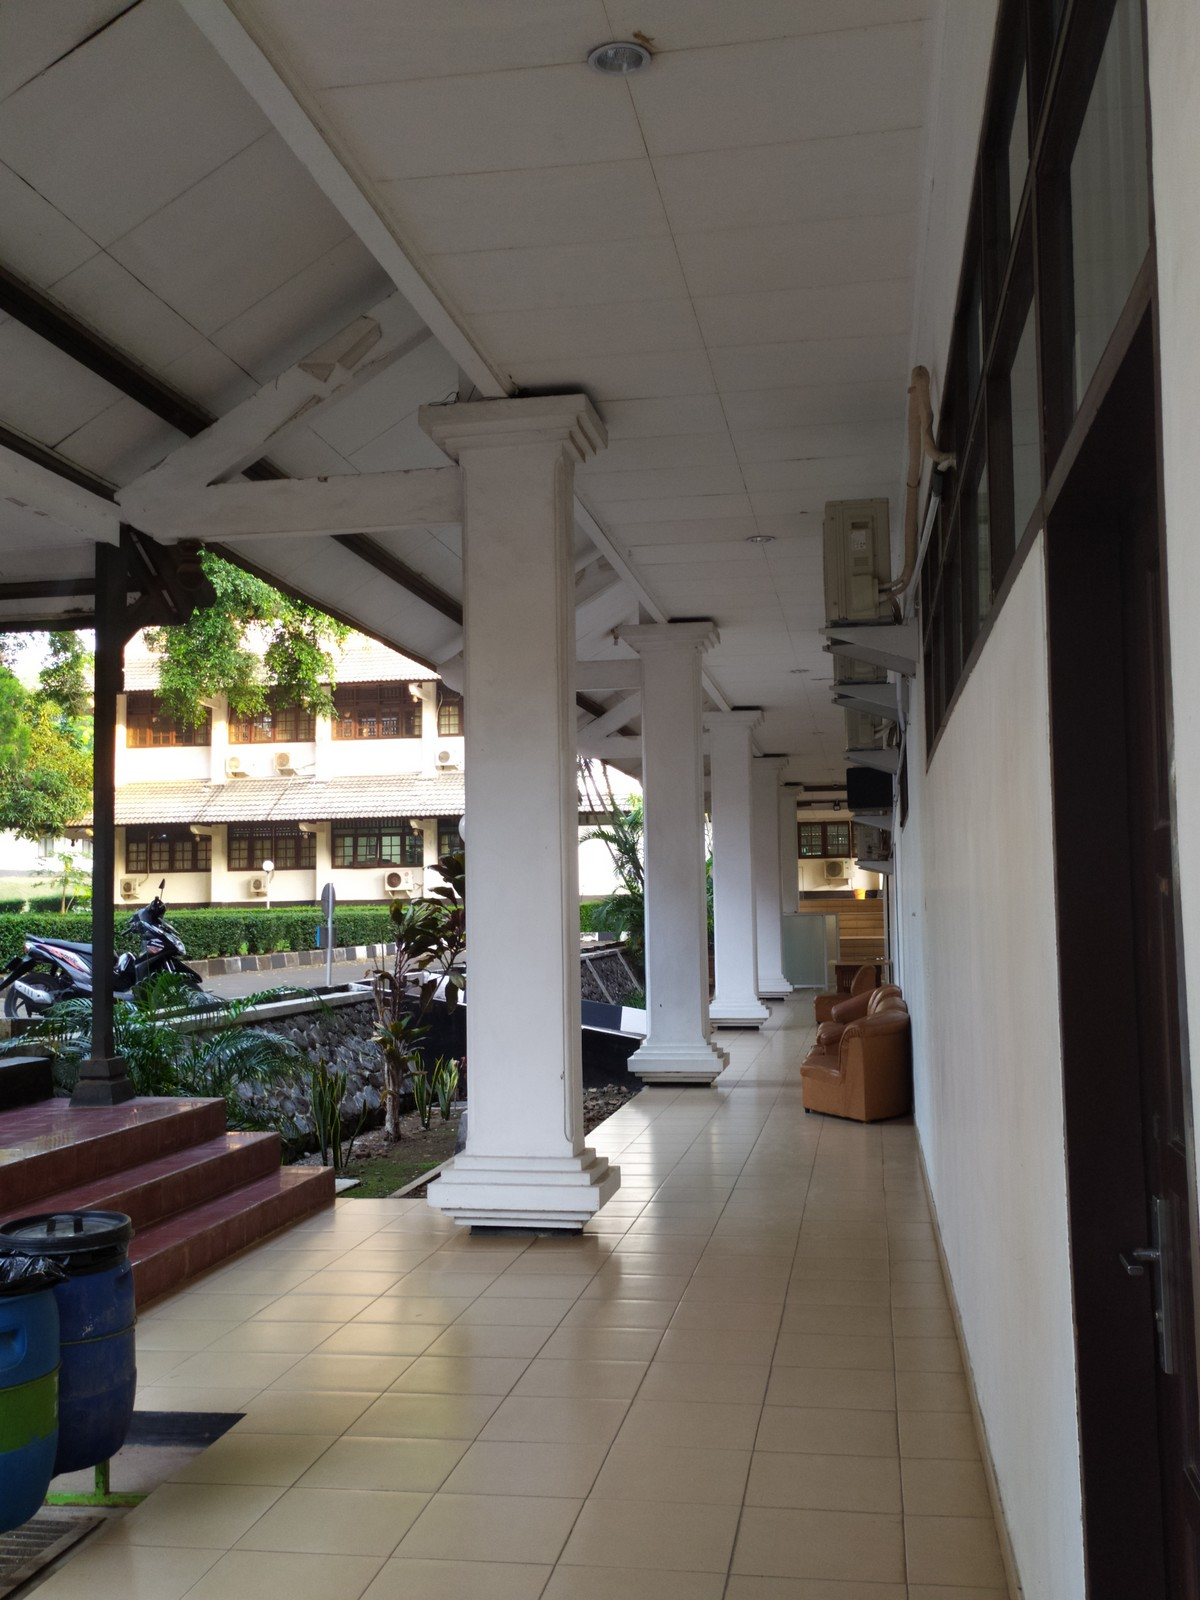concrete beam: (198, 462, 489, 543)
concrete column: (451, 454, 601, 1167), (632, 656, 720, 1041), (713, 724, 761, 1008)
